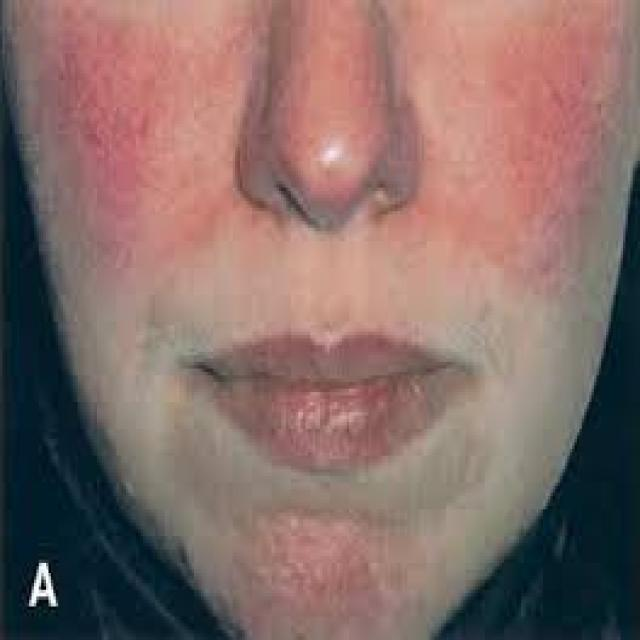Rosacea: (420, 0, 618, 292), (35, 0, 244, 267), (249, 509, 411, 604)
